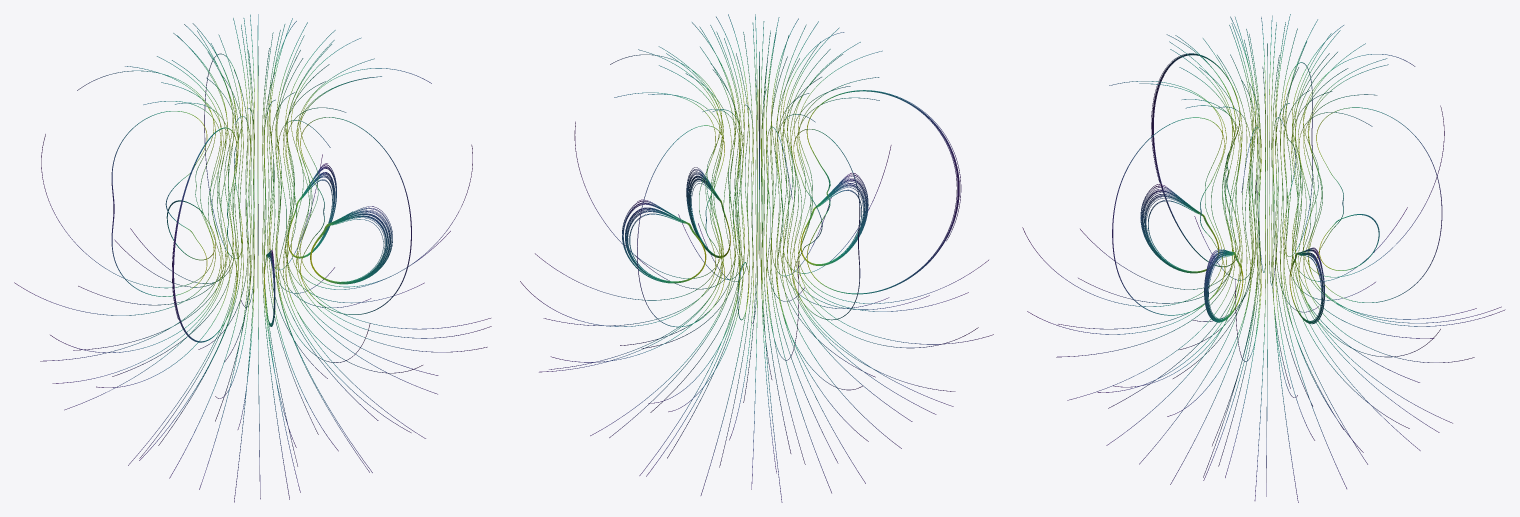
File: coil_2_field_lines.gltf
The picture shows the model from 3 angles, left to right: view 1: azimuth 30°, elevation 25°; view 2: azimuth 150°, elevation 25°; view 3: azimuth 270°, elevation 25°; orthographic projection.
Visible parts, largest first — view 1: Renderer Node; view 2: Renderer Node; view 3: Renderer Node.
Boxes of the visible parts, x1=… form: Renderer Node: x1=14, y1=14, x2=491, y2=502; Renderer Node: x1=520, y1=14, x2=993, y2=502; Renderer Node: x1=1022, y1=14, x2=1505, y2=502.
Size of the model in its own units: 2.07 by 2.07 by 2.05.
1 material, 1 textured.
